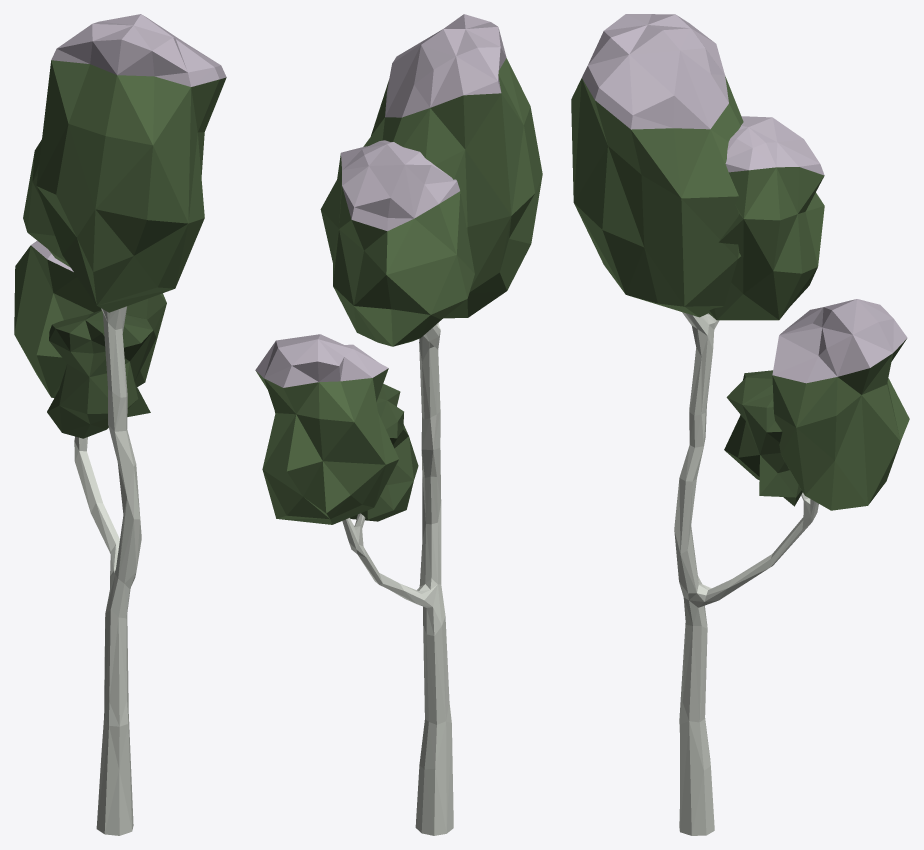
The model's file is BirchTree_Snow_5.lod1.glb.
3 renders of one model, left to right at view 1: azimuth 30°, elevation 25°; view 2: azimuth 150°, elevation 25°; view 3: azimuth 270°, elevation 25°, orthographic. The views are drawn at different scales.
Parts seen in each view (by area): view 1: BirchTree_Snow_5; view 2: BirchTree_Snow_5; view 3: BirchTree_Snow_5.
Boxes of the visible parts, x1,y1,x2,y2 form: BirchTree_Snow_5: [14, 14, 226, 835]; BirchTree_Snow_5: [255, 14, 542, 835]; BirchTree_Snow_5: [571, 14, 909, 835].
Bounding box in the file's own units: 1.19 × 5.06 × 1.93.
